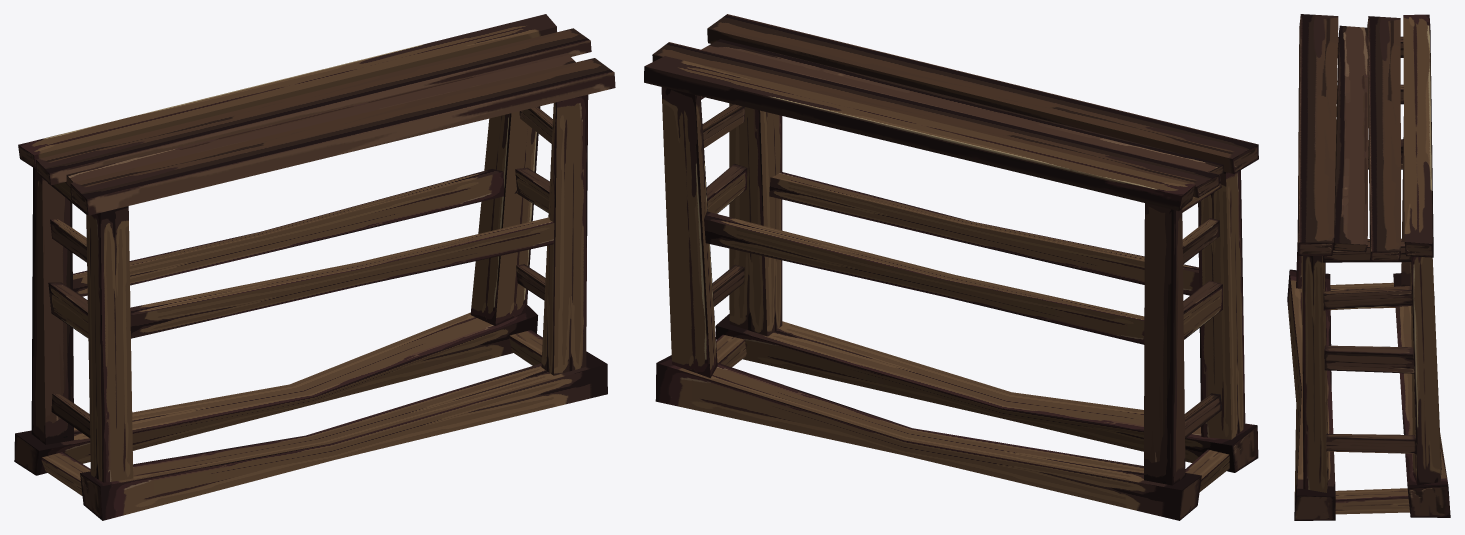
The model's file is SM_PROP_barrel_shelf_dungeon_02.fbx.
3 renders of one model, left to right at view 1: azimuth 30°, elevation 25°; view 2: azimuth 150°, elevation 25°; view 3: azimuth 270°, elevation 25°, orthographic. The views are drawn at different scales.
Visible parts, largest first — view 1: SM_PROP_barrel_shelf_dungeon_02; view 2: SM_PROP_barrel_shelf_dungeon_02; view 3: SM_PROP_barrel_shelf_dungeon_02.
Part boxes in pixels (box(x1,y1,x2,y2)): SM_PROP_barrel_shelf_dungeon_02: box(14, 14, 615, 520); SM_PROP_barrel_shelf_dungeon_02: box(644, 14, 1258, 520); SM_PROP_barrel_shelf_dungeon_02: box(1287, 14, 1450, 520).
Bounding box in the file's own units: 329 × 185 × 96.33.
